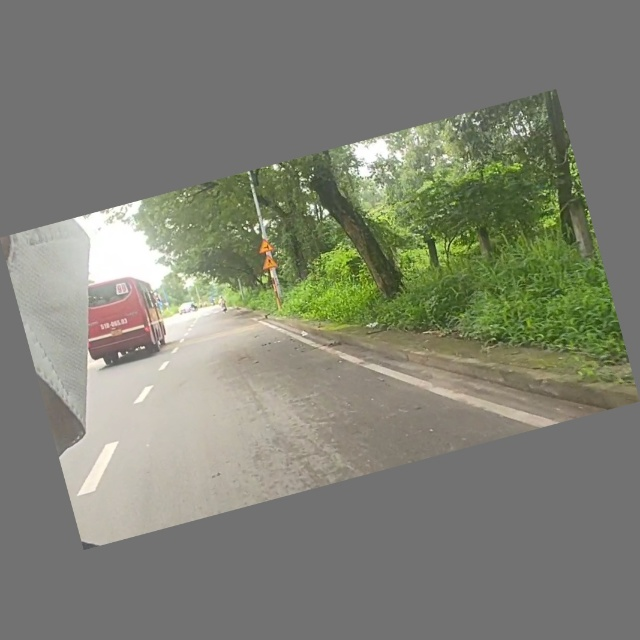W.205c: (255, 237, 277, 257)
W.224: (261, 253, 280, 272)
